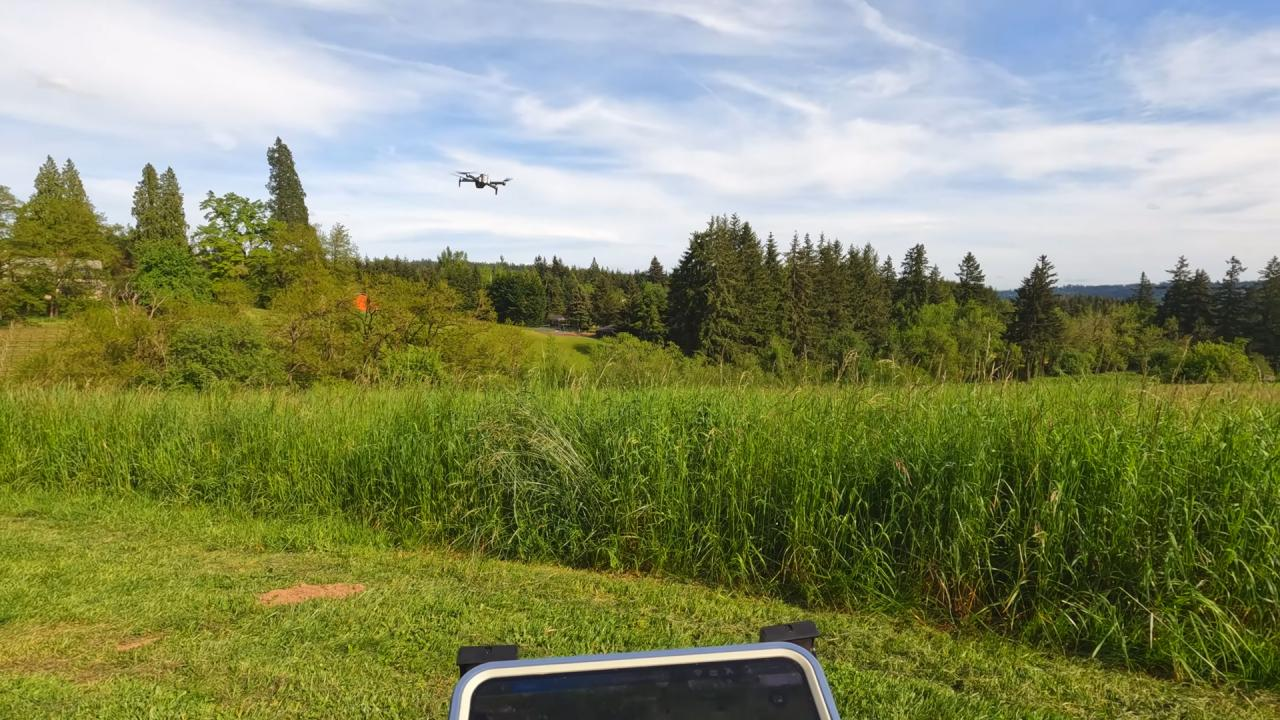Drone: (443, 162, 516, 210)
